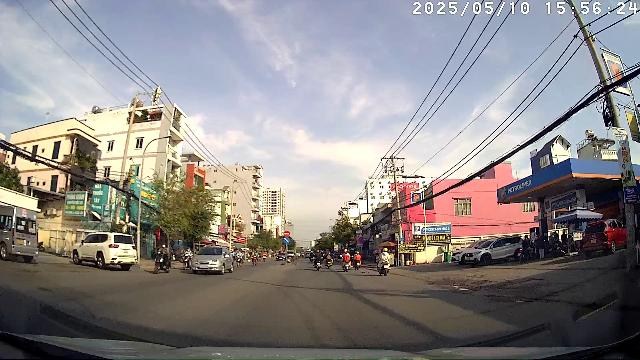102-cam-di-nguoc-chieu: (283, 230, 291, 237)
302a-huong-phai-di-vong-chuong-ngai-vat-1: (283, 237, 290, 244)
